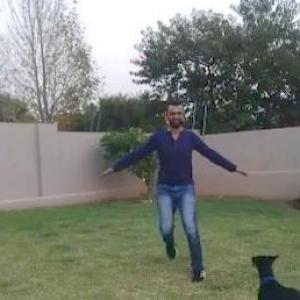land: (84, 71, 252, 298)
